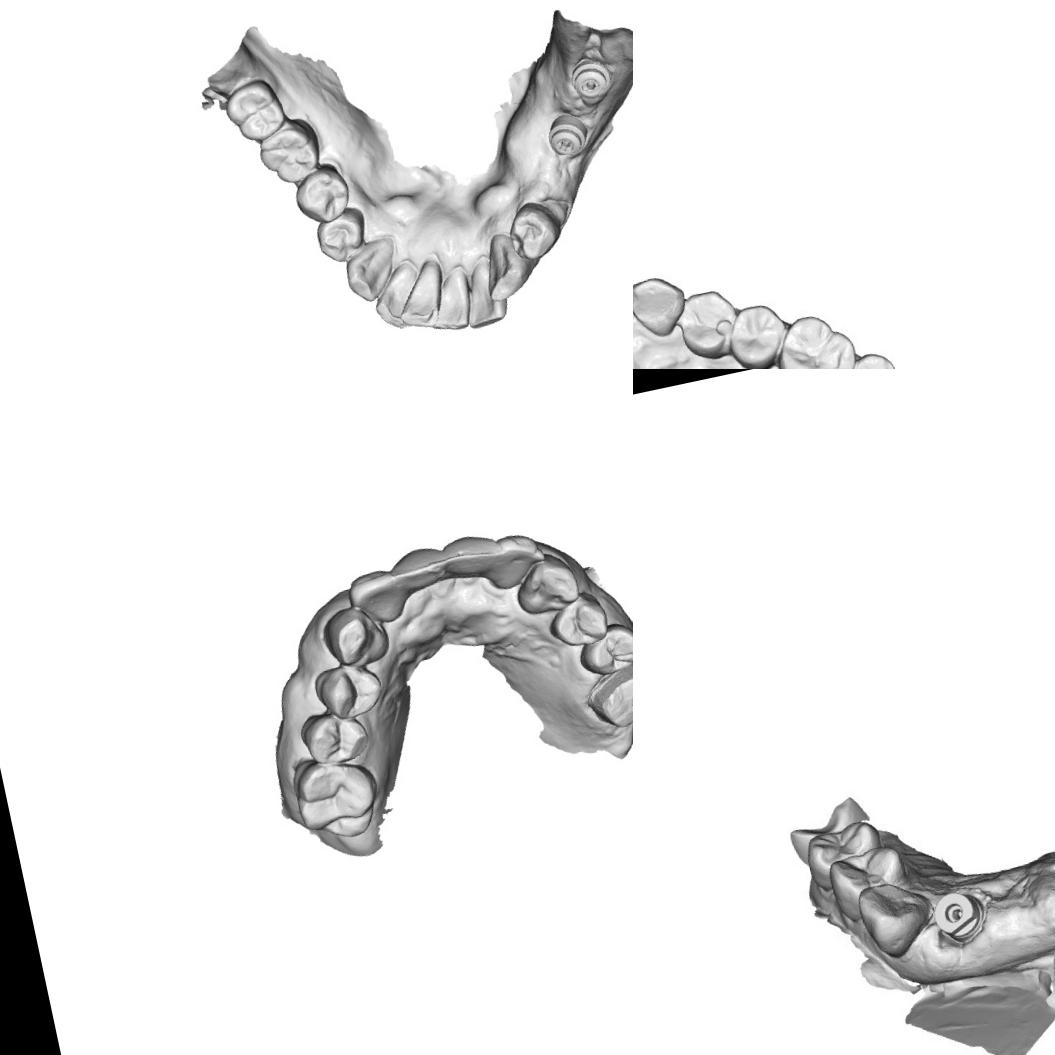canine: (853, 872, 938, 964), (333, 232, 410, 308), (318, 598, 394, 674), (509, 552, 584, 619), (473, 228, 536, 306), (633, 267, 694, 342)
crown: (578, 658, 633, 735)
implant: (920, 880, 999, 958)
implant_minus: (542, 110, 592, 161), (565, 52, 615, 102)
incisor: (456, 250, 512, 332), (416, 262, 478, 336), (390, 256, 452, 330), (368, 260, 429, 334), (344, 564, 408, 630), (486, 527, 546, 593), (390, 542, 452, 598), (441, 528, 501, 584)
molar: (287, 746, 388, 848), (766, 305, 869, 369), (252, 113, 328, 191), (219, 74, 291, 150), (836, 342, 922, 369)
premolar: (822, 842, 912, 922), (801, 812, 890, 891), (670, 285, 743, 362), (309, 656, 389, 726), (720, 296, 793, 369), (295, 704, 374, 770), (542, 590, 613, 653), (289, 164, 355, 229), (502, 197, 566, 264), (307, 204, 373, 268), (573, 617, 633, 679)
